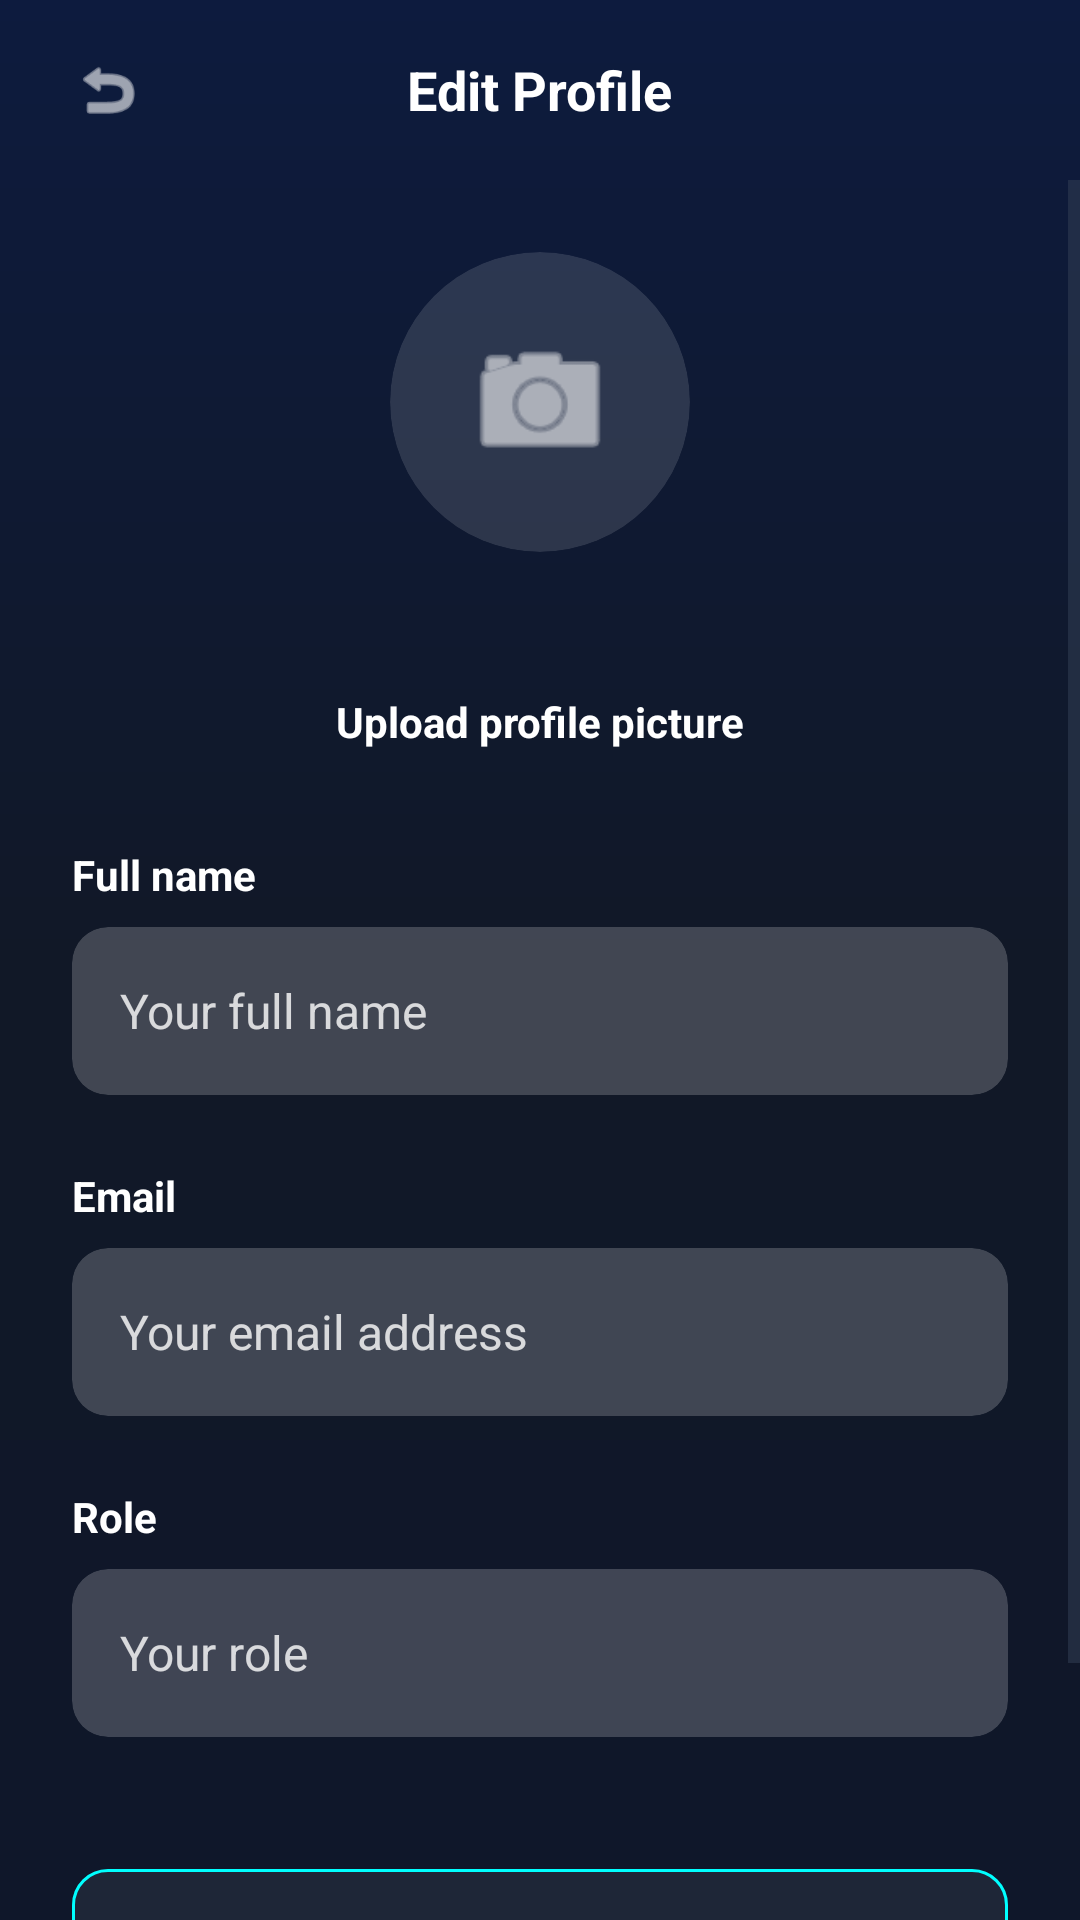

Icon bounding boxes for this 1080w x 1920h phone screenshot, format (x1, y1, x2, y2):
camera: (390, 252, 690, 552)
revert: (83, 67, 135, 114)
